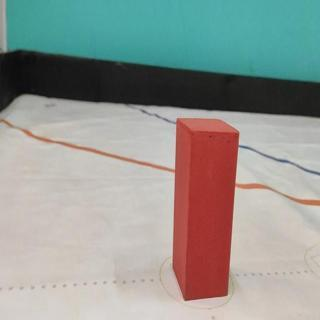redbox: (171, 115, 239, 301)
